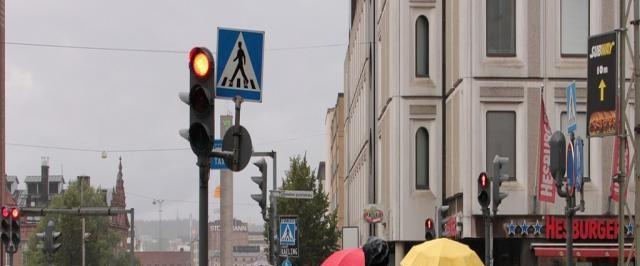red_light: (189, 47, 215, 155), (1, 206, 10, 243), (11, 208, 20, 243)
